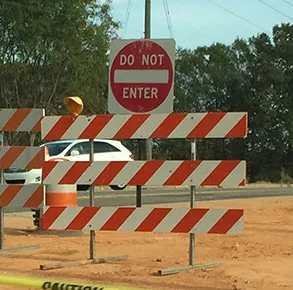Do Not Enter: (112, 40, 174, 112)
